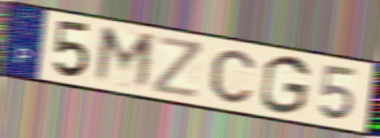5: (317, 62, 358, 122), (52, 19, 90, 79)
C: (209, 48, 257, 106)
G: (258, 54, 313, 117)
M: (90, 24, 158, 94)
Z: (152, 34, 205, 101)
